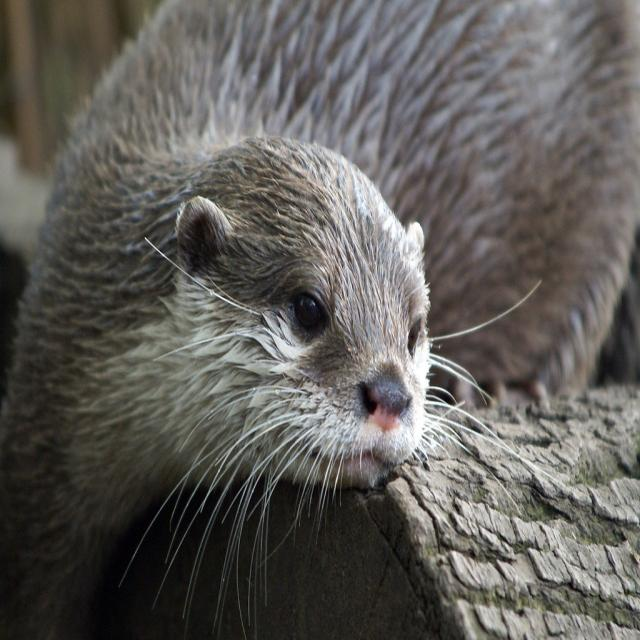otter: (59, 146, 433, 506)
